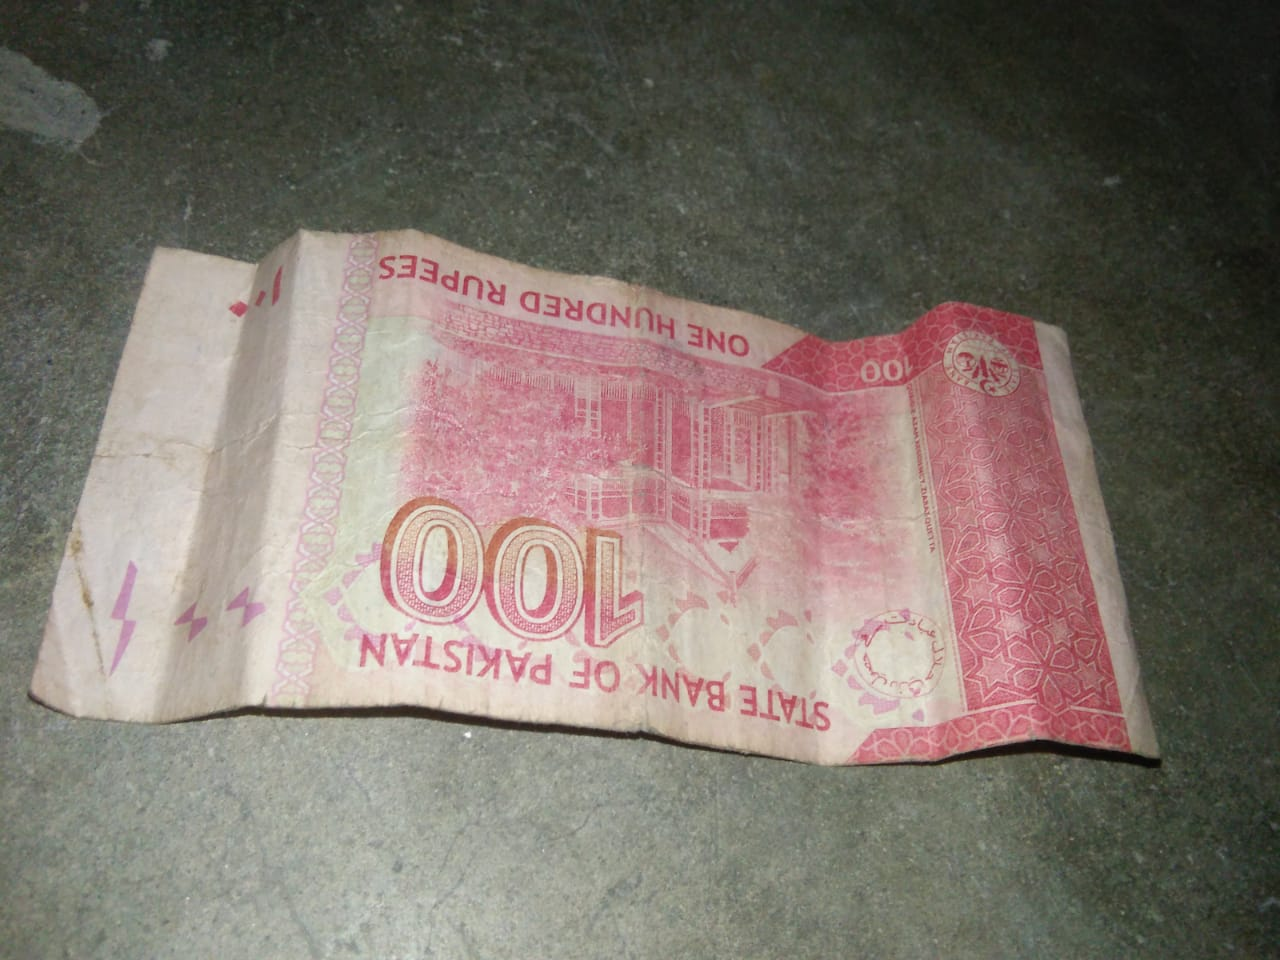100 rupee: (21, 208, 1167, 784)
